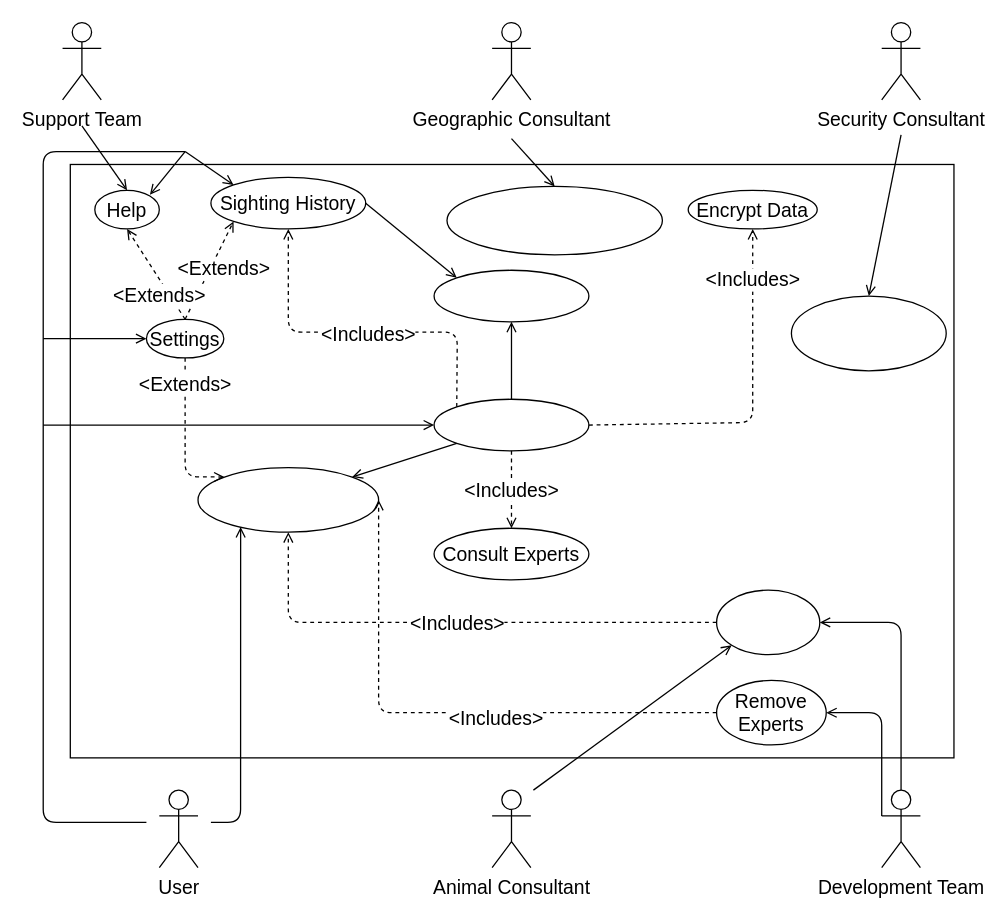
Image size: 1007x922. Some labels were removed from this diagram. The centre of each missing label's shape, as x and y in pixels:
"Add Experts" goes at pixel 767 622.
"Identify Animal" goes at pixel 511 424.
"location" goes at pixel 511 295.
"Select Available Experts" goes at pixel 288 499.
"Verify App's security status" goes at pixel 868 333.
"Verify Geographical Information" goes at pixel 554 220.
